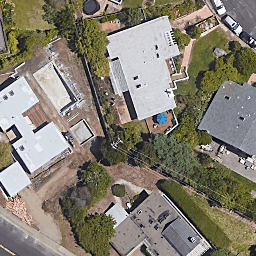car: (223, 14, 243, 36), (240, 29, 256, 48), (211, 1, 229, 15)
